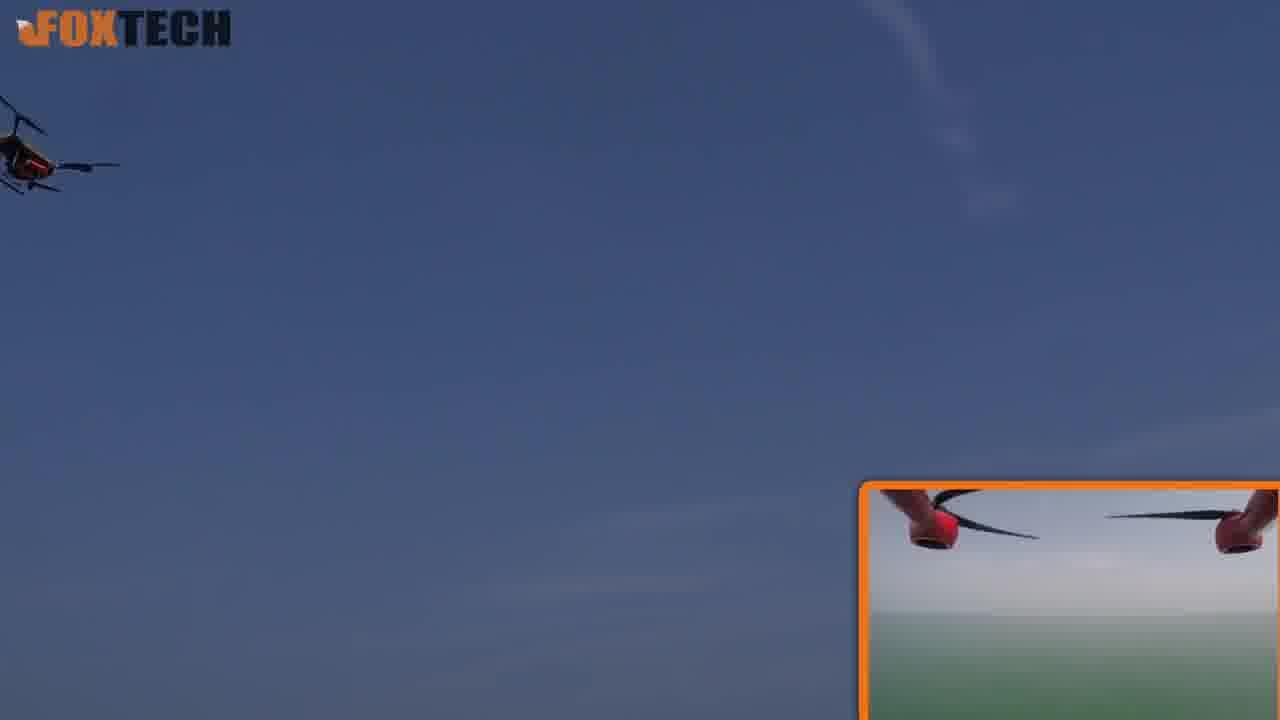drone: (0, 86, 135, 207)
